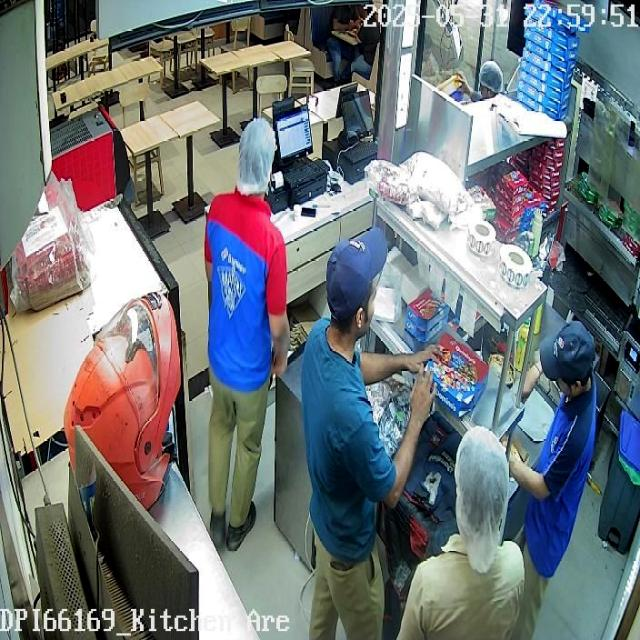helmet: (66, 294, 178, 504)
